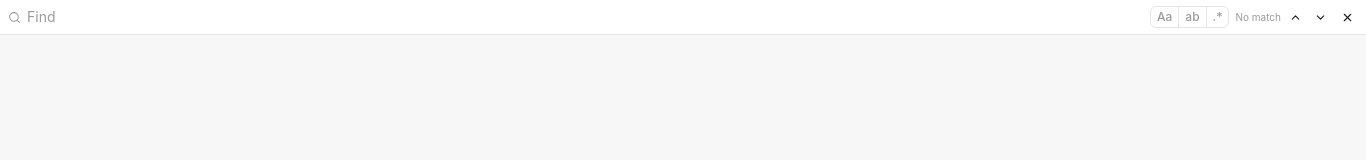
Scenario: EditorFindPanel › reflects query changes in the search state and shows k / n
Type "foo" into the field with test id "editor-find-input".
click(586, 17); type("foo")  # box [27,7,1144,27]
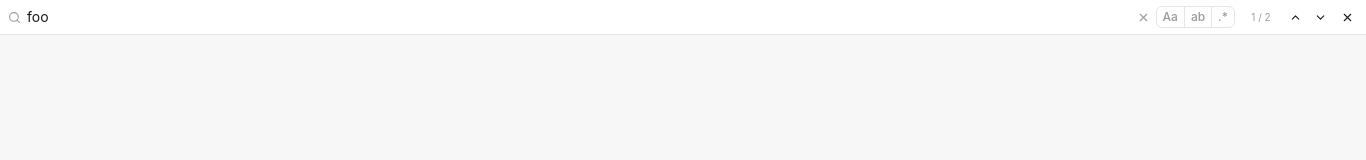
Now the text with test id "editor-find-count-count" reads "1 / 2", box [1251,11,1271,23]
